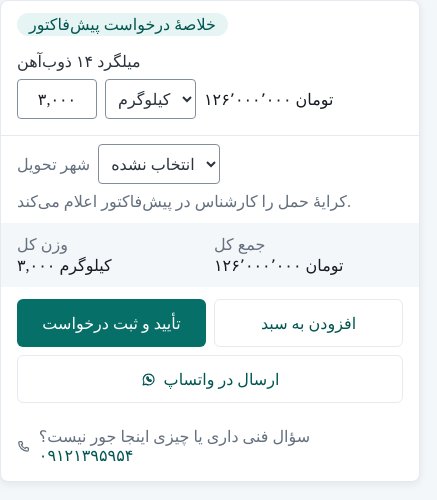
Test: ProformaCard — editing › restores the last good value when the typed one is not a quantity
Clear the field named "مقدار میلگرد" at (57, 99), box x1=17 y1=79 x2=97 y2=119
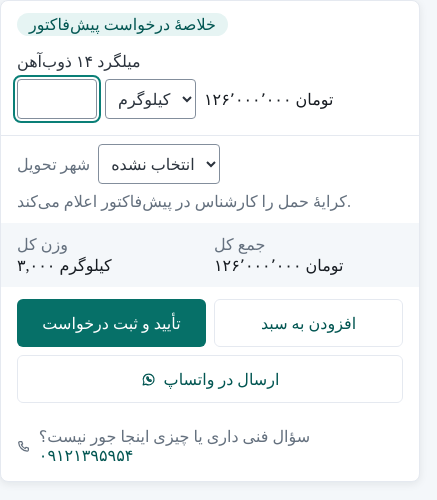
Press Tab
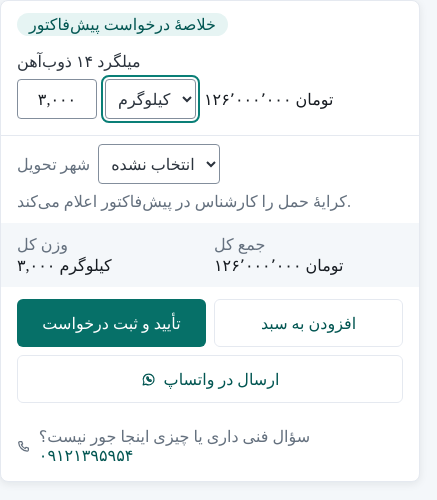
Check: the field named "مقدار میلگرد" holds "۳,۰۰۰", box x1=17 y1=79 x2=97 y2=119
